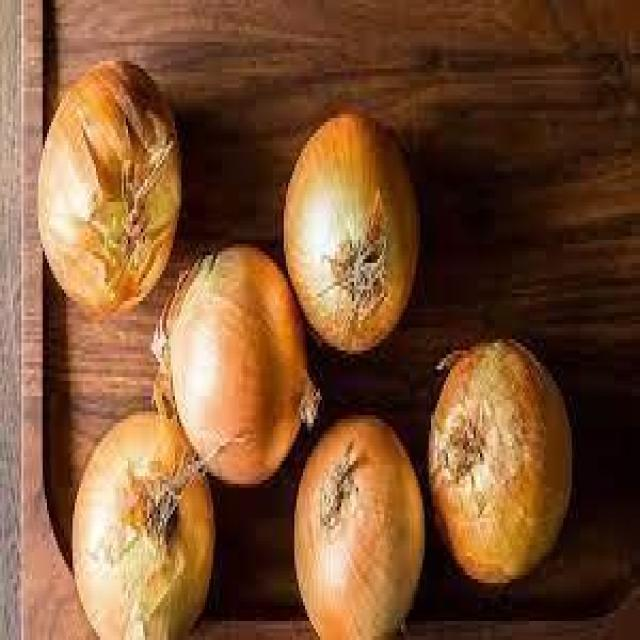Onion: (38, 58, 184, 312), (428, 339, 573, 587), (74, 400, 225, 636), (163, 250, 308, 490), (287, 110, 421, 350), (296, 415, 434, 640)
